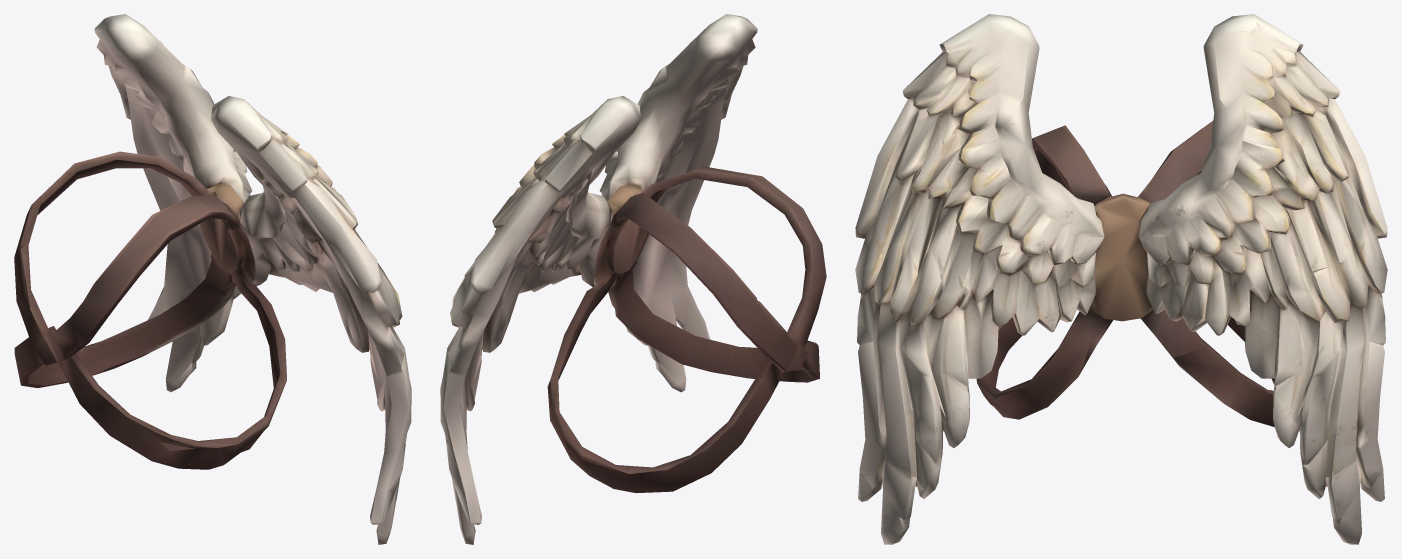
File: blessing_wings.glb
The picture shows the model from 3 angles, left to right: view 1: azimuth 30°, elevation 25°; view 2: azimuth 150°, elevation 25°; view 3: azimuth 270°, elevation 25°; orthographic projection. The views are drawn at different scales.
Parts seen in each view (by area): view 1: model; view 2: model; view 3: model.
Boxes of the visible parts, <box> form: model: <box>14,14,411,544</box>; model: <box>440,14,826,544</box>; model: <box>855,14,1387,544</box>.
Size of the model in its own units: 0.6581 by 1 by 1.01.
Materials: 1 (1 with a texture image).
